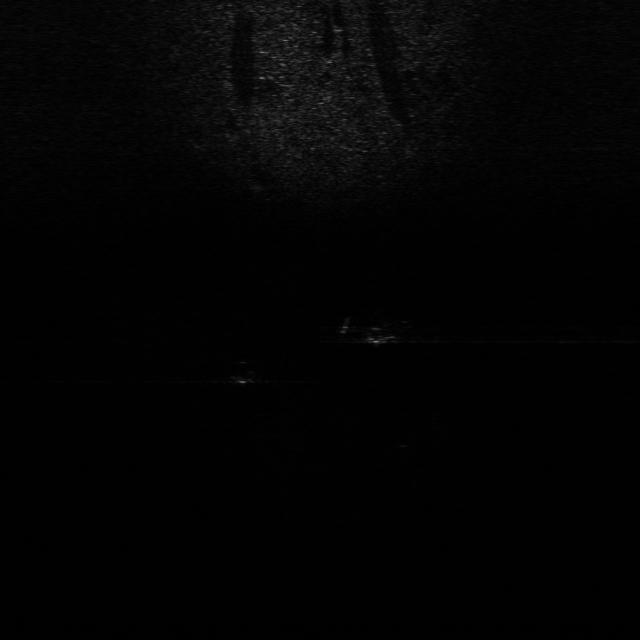ball: (217, 354, 268, 388)
human body: (333, 310, 417, 348)
